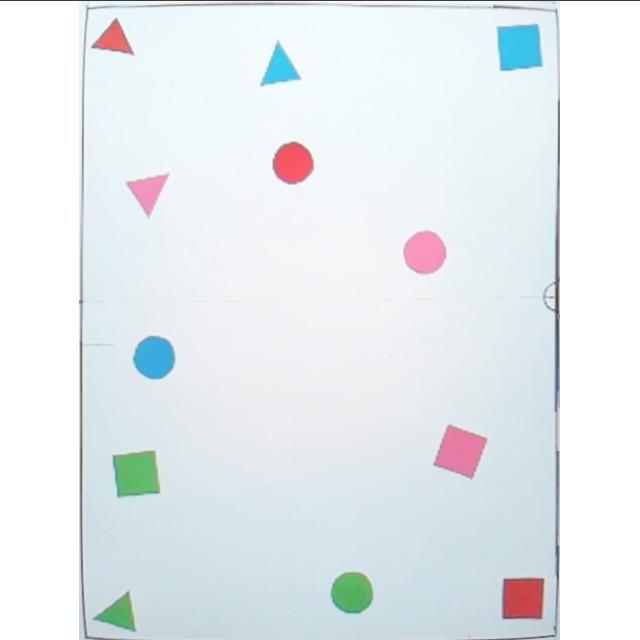blueCircle: (131, 332, 179, 380)
blueSquare: (496, 19, 546, 75)
blueTriangle: (258, 38, 306, 88)
greenCircle: (330, 570, 376, 614)
greenSquare: (112, 448, 162, 499)
greenTriangle: (91, 588, 140, 634)
pinkCircle: (401, 228, 452, 276)
pinkSquare: (430, 422, 490, 480)
pinkTriangle: (125, 170, 173, 218)
redCircle: (272, 138, 318, 186)
redSquare: (501, 574, 549, 622)
redTriangle: (90, 15, 138, 58)
